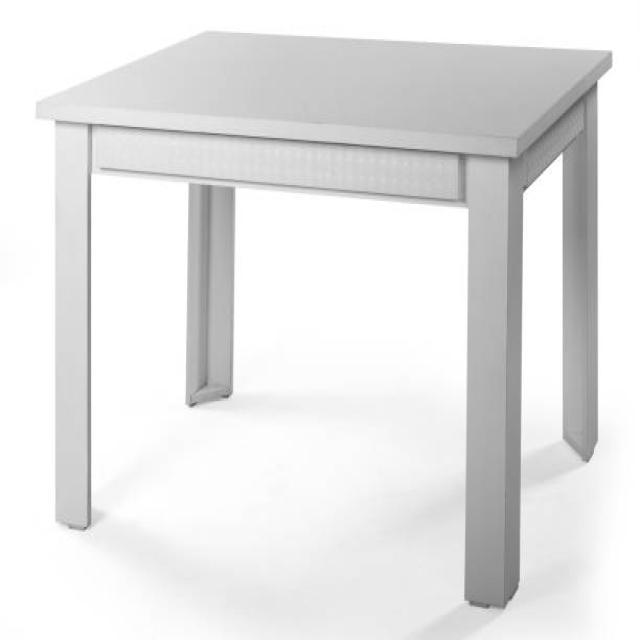table: (34, 26, 612, 608)
